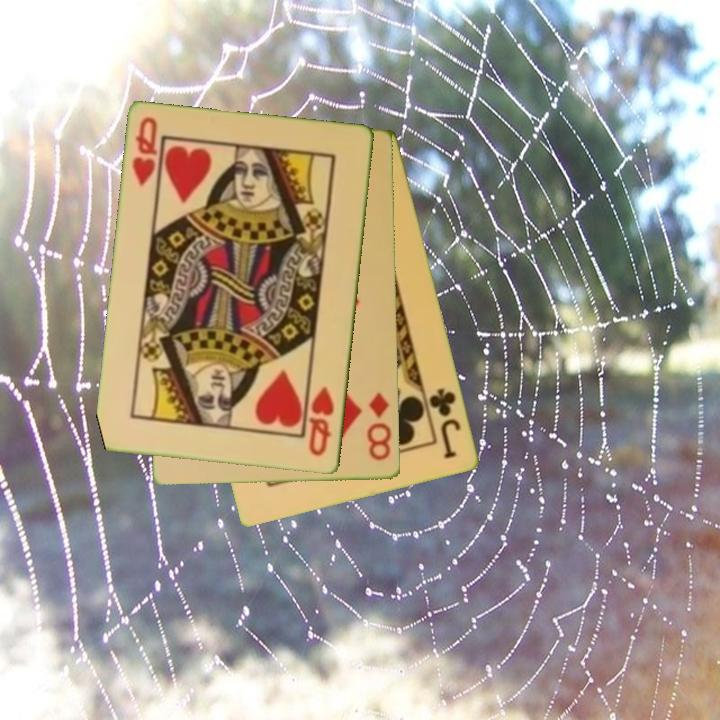8d: (363, 389, 394, 464)
Jc: (426, 384, 464, 462)
Qh: (129, 113, 161, 190), (306, 383, 338, 459)
